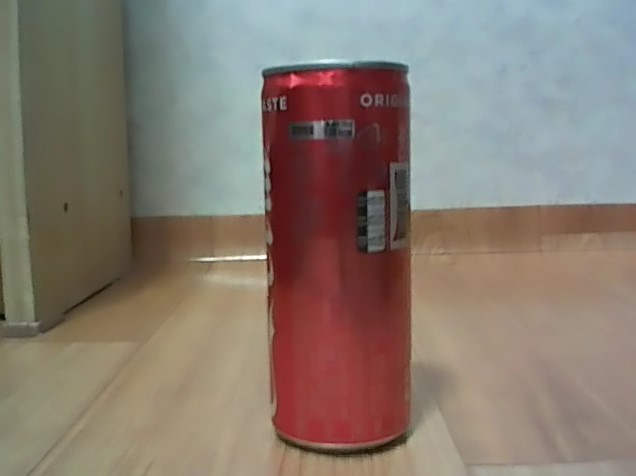Can: (252, 52, 420, 459)
